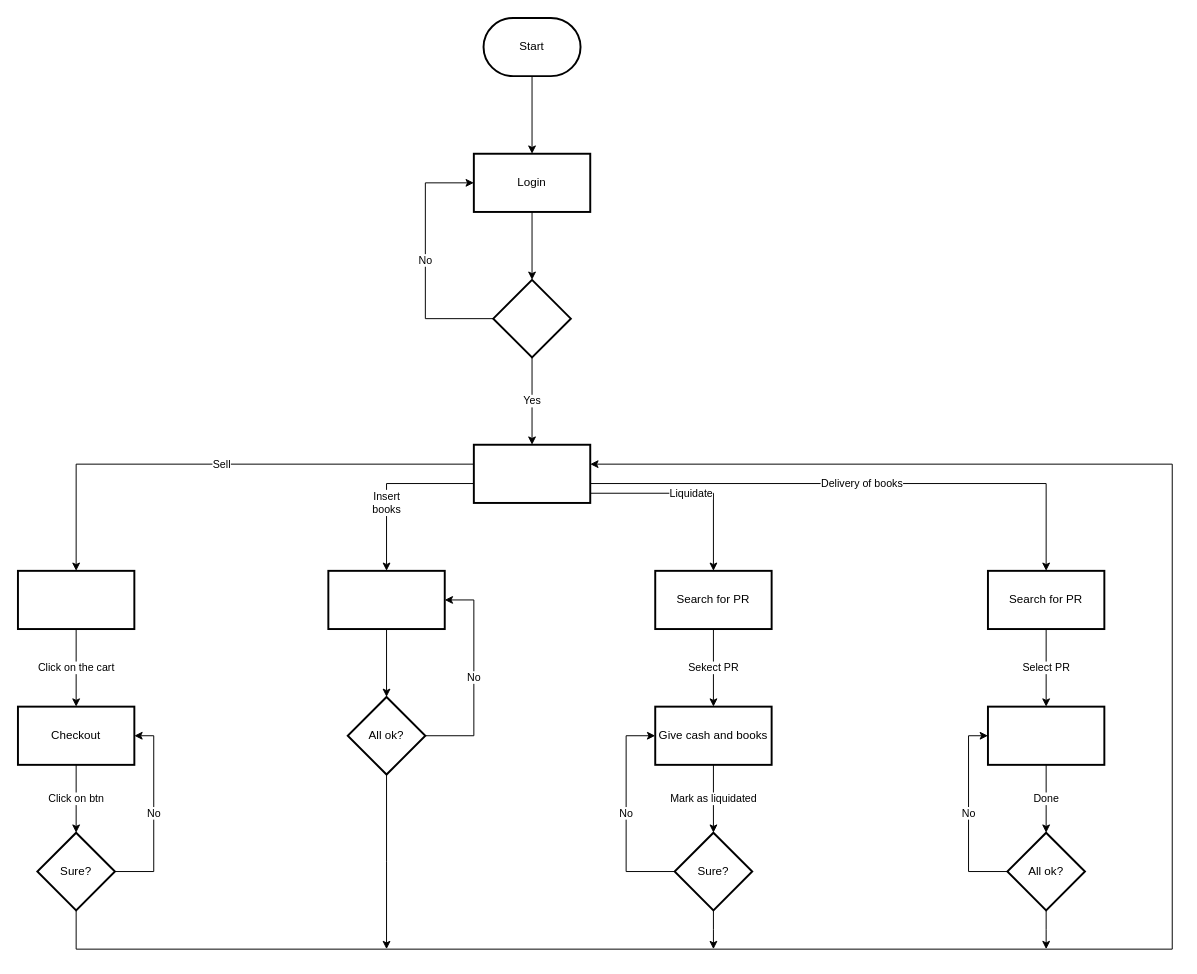
Image size: 1197x974. Some labels were removed from this diagram. Here are the shapes that lost their labels. From the top down, the centre of each, then its label:
point 531,318: Correct psw?
point 531,473: Select Operation
point 75,599: Add books to chart
point 386,599: Insert books info
point 1045,735: Check the books provided, modify if necessary
